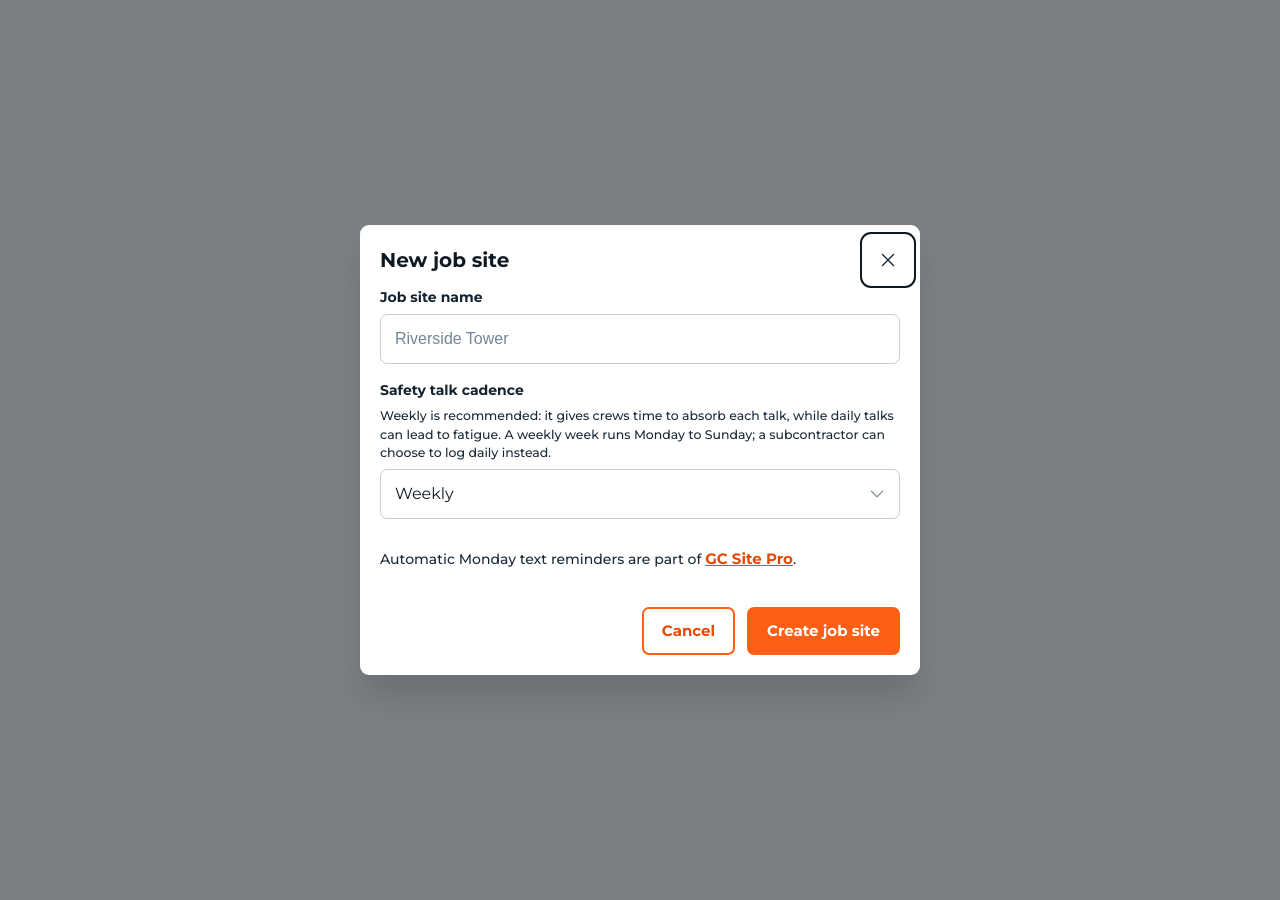
Test case: JobsiteForm › requires a name and does not submit without one
Click the button "Create job site" at (824, 631), box [747,607,900,655]
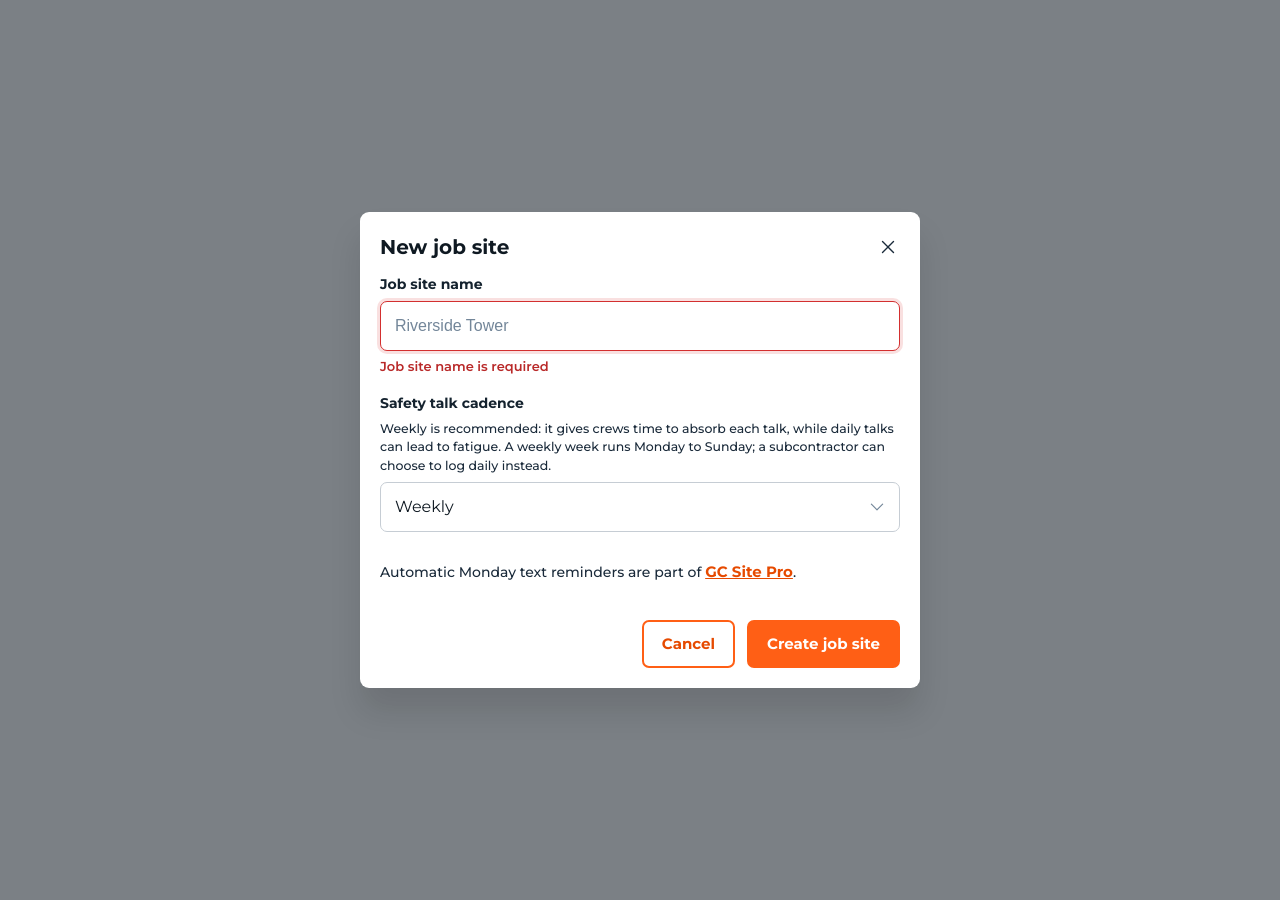
expect the text "Job site name is required" is shown: met, box [380,358,549,374]
